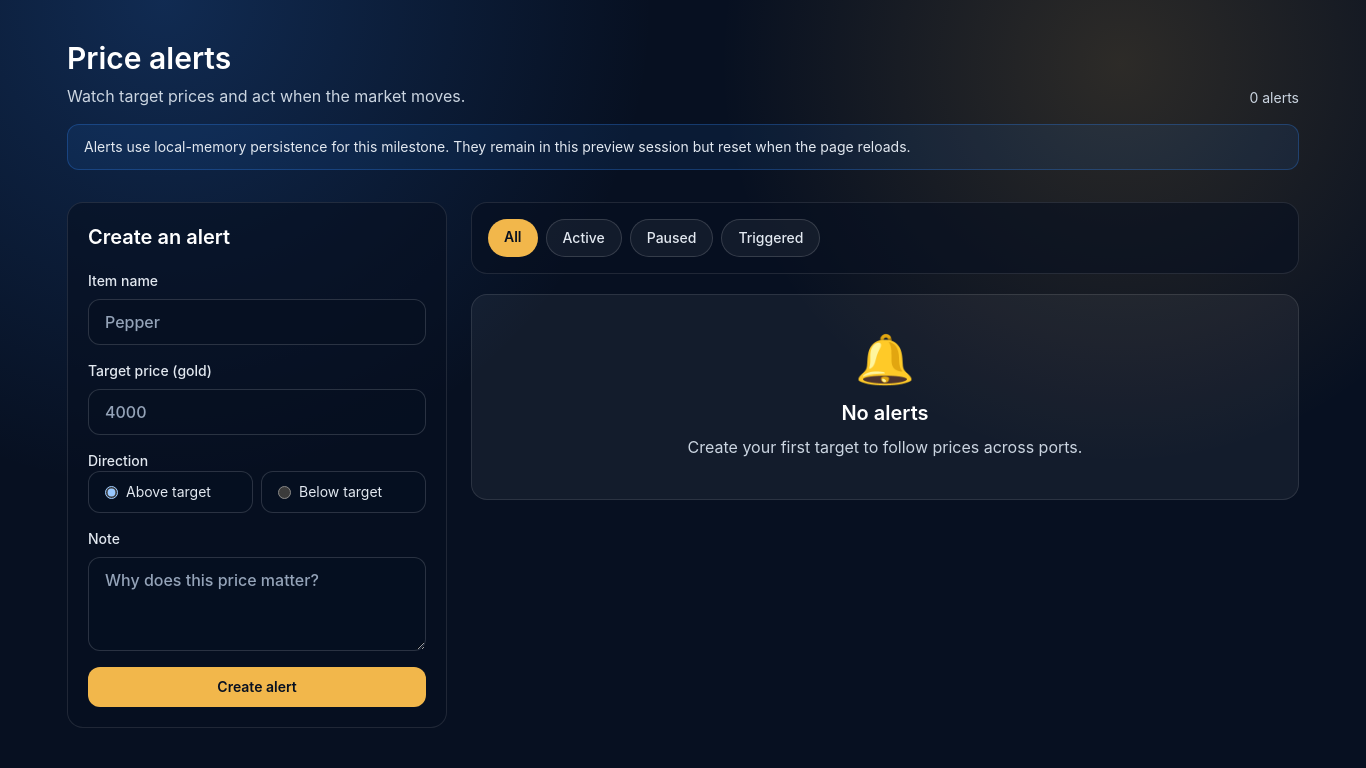
Scenario: PriceAlertsPage › creates a valid alert, resets the form, and refreshes the list
Expected: the text "0 alerts" is shown, [1250,88,1299,108]
Type "Silk" into the field labelled "Item name". click: (257, 322)
box: [88,299,426,345]
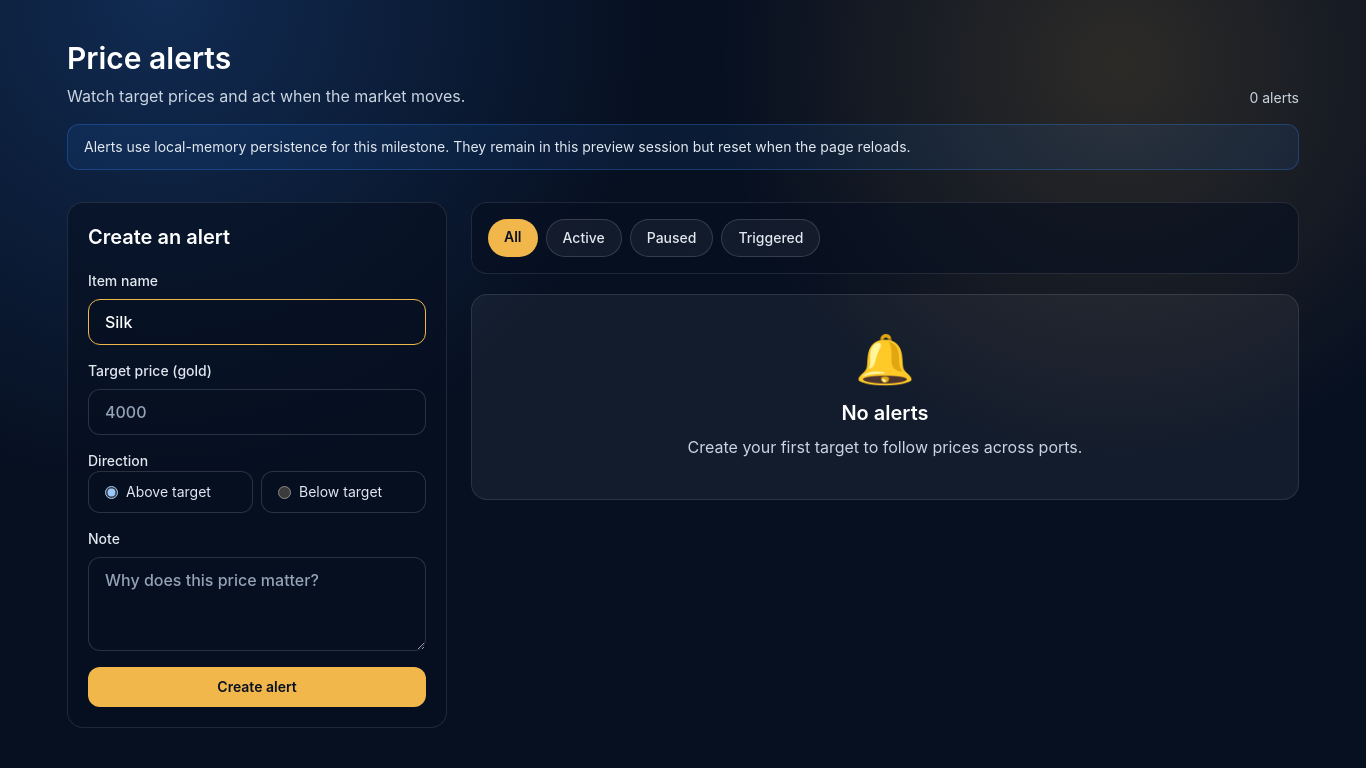
Type "8000" into the number field labelled "Target price (gold)". click: (257, 412)
box: [88,389,426,435]
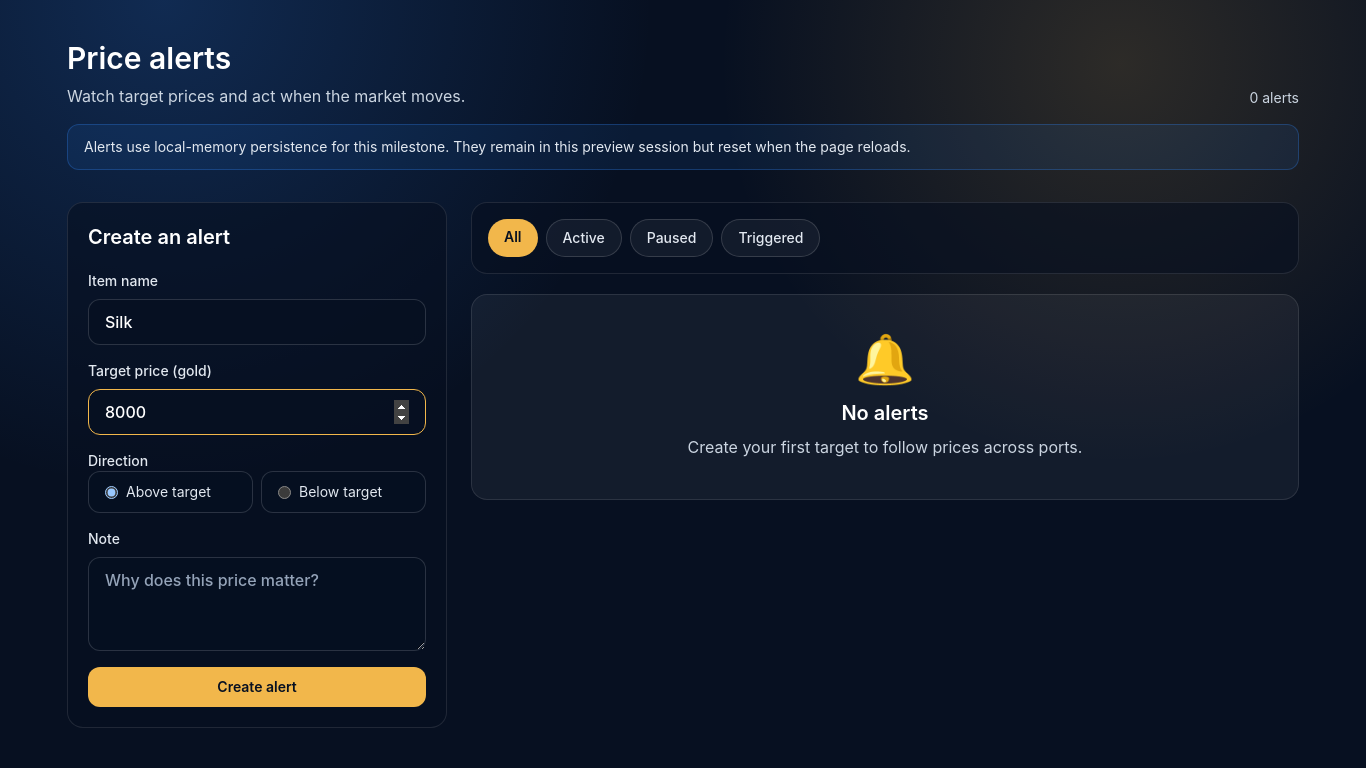
Click the radio button labelled "Above target". click: (112, 492)
box: [105,486,118,498]
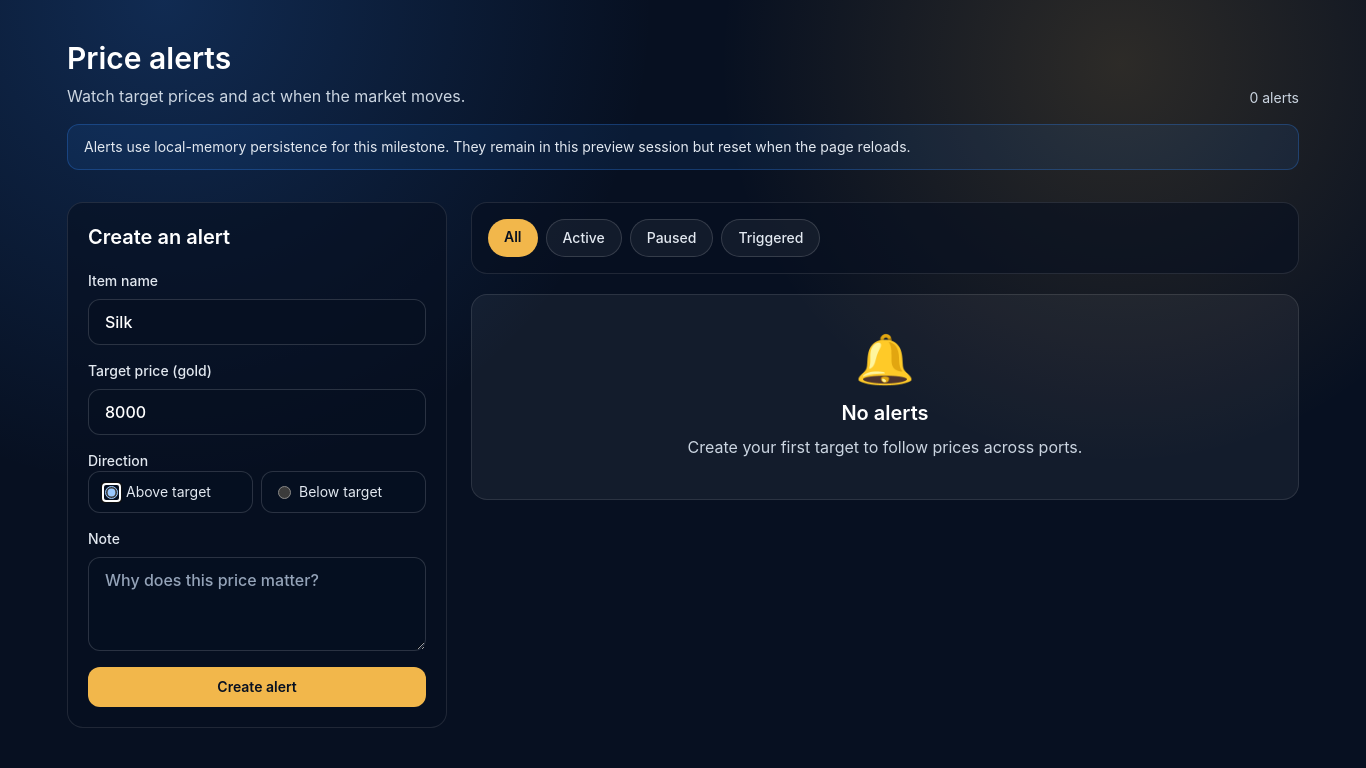
Type "Sell at the peak." into the text box labelled "Note". click: (257, 604)
box: [88,557,426,651]
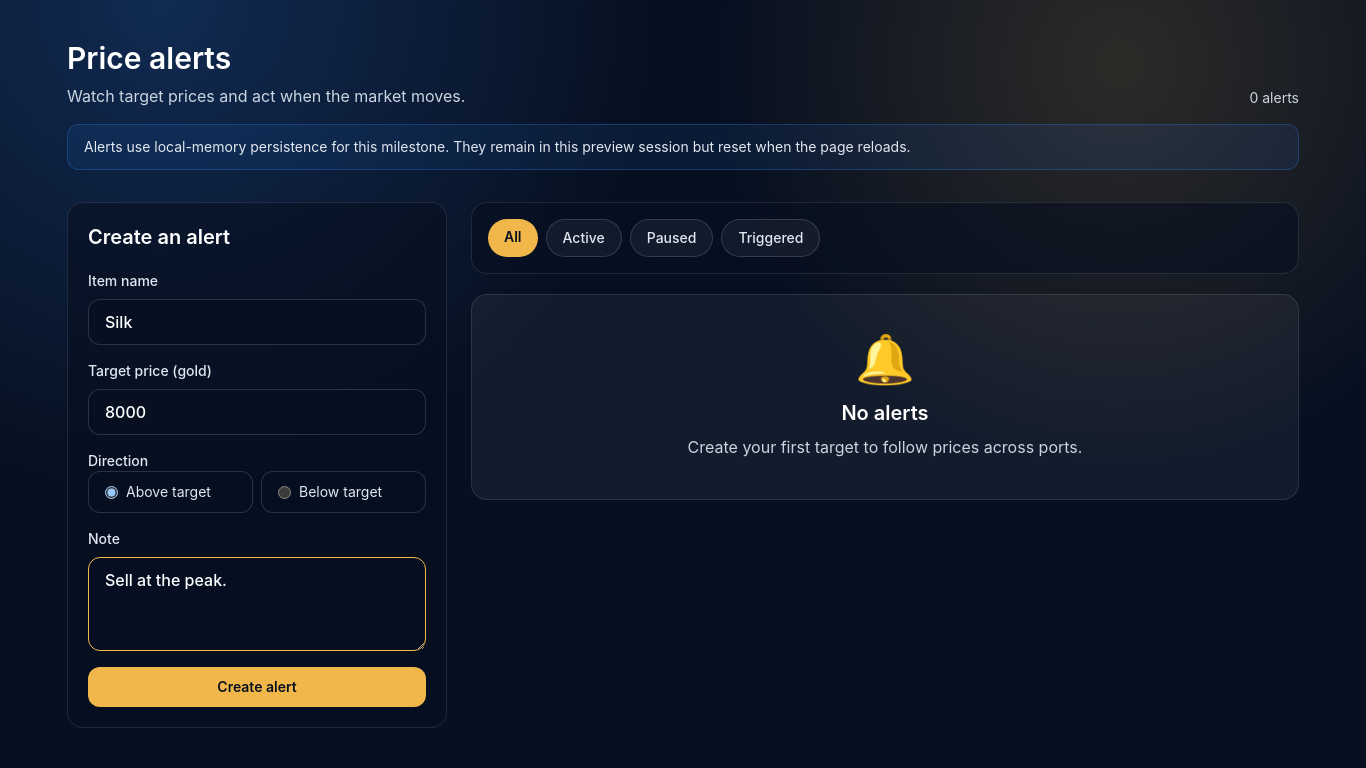
Click the button "Create alert". click: (257, 687)
box: [88,667,426,707]
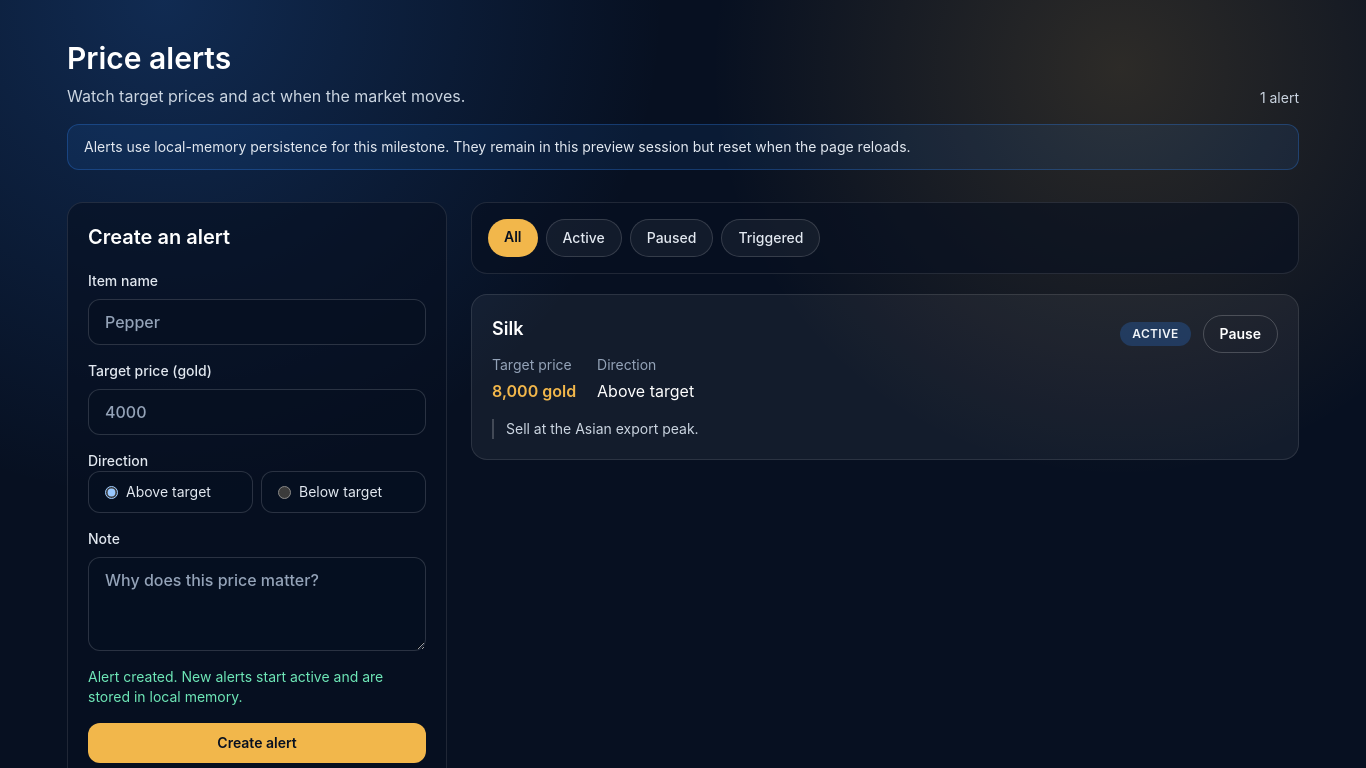
Expected: the text "Alert created. New alerts start active and are stored in local memory." is shown, [88,667,426,707]
Expected: the heading "Silk" is shown, [492,318,523,339]
Expected: the text "1 alert" is shown, [1260,88,1299,108]
